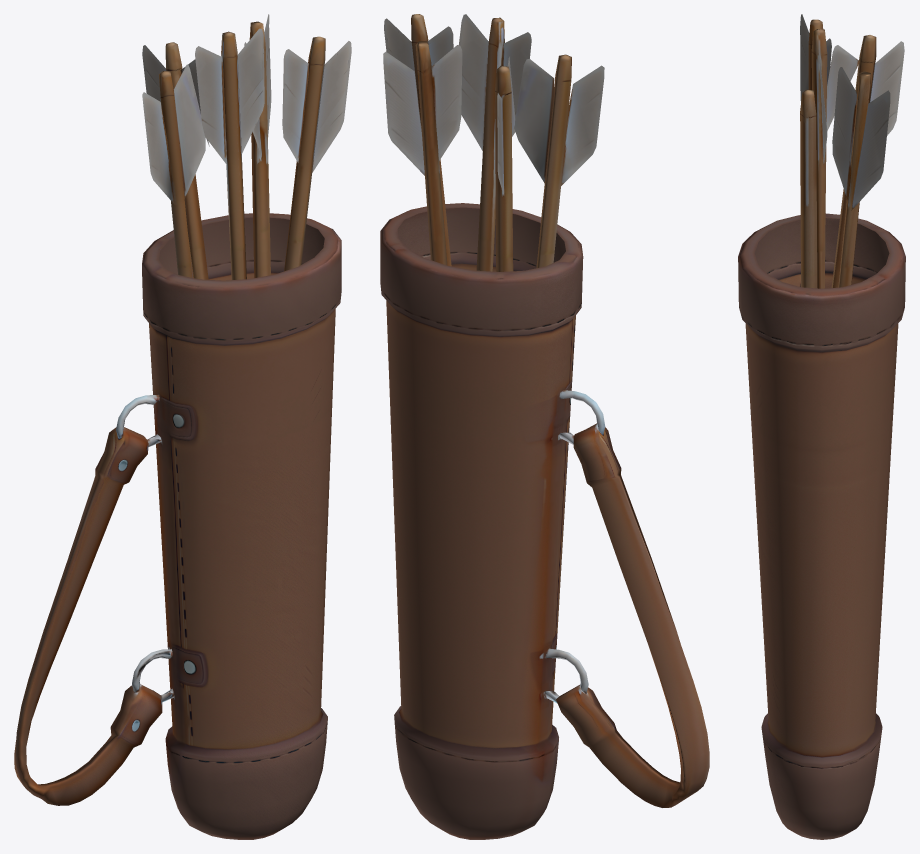
Rendered from crossbowman_quiver_v3_tex.fbx.
3 views of the same model, side by side, from view 1: azimuth 30°, elevation 25°; view 2: azimuth 150°, elevation 25°; view 3: azimuth 270°, elevation 25° (orthographic). The views are drawn at different scales.
Visible parts, largest first — view 1: c4345bd4_552b_4383_ae17_ea726ed013ce; view 2: c4345bd4_552b_4383_ae17_ea726ed013ce; view 3: c4345bd4_552b_4383_ae17_ea726ed013ce.
Boxes of the visible parts, x1,y1,x2,y2 form: c4345bd4_552b_4383_ae17_ea726ed013ce: (14,14,351,839); c4345bd4_552b_4383_ae17_ea726ed013ce: (380,14,709,839); c4345bd4_552b_4383_ae17_ea726ed013ce: (738,14,905,839).
Size of the model in its own units: 0.4282 by 0.9995 by 0.1929.
1 material, 1 textured.
